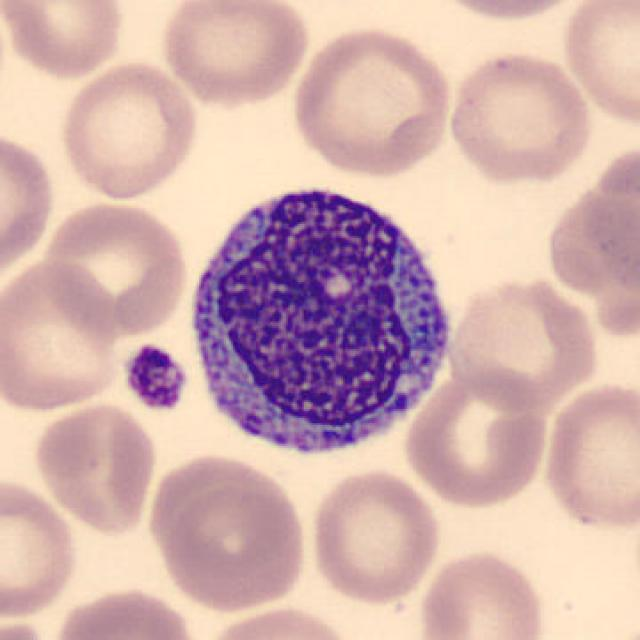Monocyte: (178, 168, 462, 476)
Platelets: (119, 340, 192, 414)
RBC: (286, 23, 455, 180), (149, 457, 311, 615), (442, 272, 602, 414), (400, 367, 553, 511), (55, 56, 203, 203), (442, 47, 596, 187), (41, 198, 190, 338), (0, 257, 128, 416), (306, 466, 442, 606), (30, 398, 160, 538), (156, 0, 312, 109), (538, 377, 640, 535), (415, 546, 549, 640), (565, 136, 640, 303), (0, 474, 82, 621), (556, 0, 639, 130), (0, 0, 130, 81), (0, 125, 59, 286), (49, 583, 202, 640), (199, 603, 361, 640), (420, 0, 598, 23), (0, 615, 60, 639)
